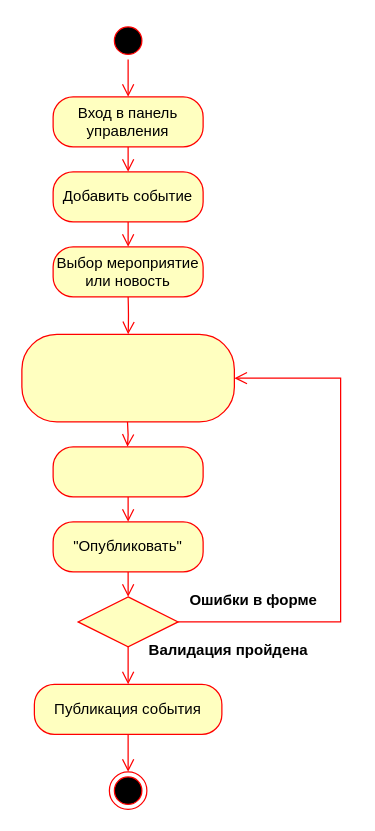
The diagram is 375 pixels wide and 831 high, and some of its shapes have lost their labels. The shapes that lost their labels are listed below. From the top down, each one's centre as x and y in pixels, then its label:
At (127,377): "Заполнение полей формы (название, описание, дата, категория)".
At (127,471): "Загрузка медифайлов".
